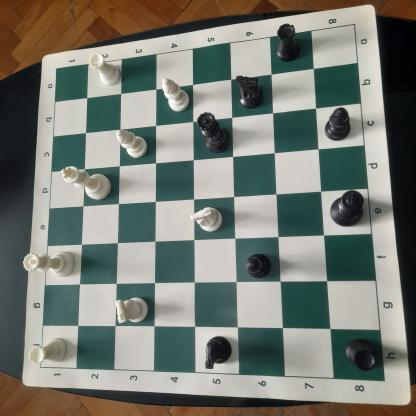black-bishop: (240, 247, 276, 283), (323, 105, 353, 141)
black-king: (327, 187, 366, 230)
black-knight: (234, 69, 268, 111), (202, 333, 235, 372)
black-queen: (195, 110, 232, 156)
black-rook: (344, 337, 379, 374), (274, 22, 304, 64)
white-bishop: (112, 126, 150, 162), (162, 76, 192, 113)
white-king: (58, 163, 115, 204)
white-knight: (111, 295, 152, 326), (187, 204, 227, 235)
white-queen: (20, 246, 78, 280)
white-rook: (26, 333, 70, 366), (88, 51, 123, 89)
